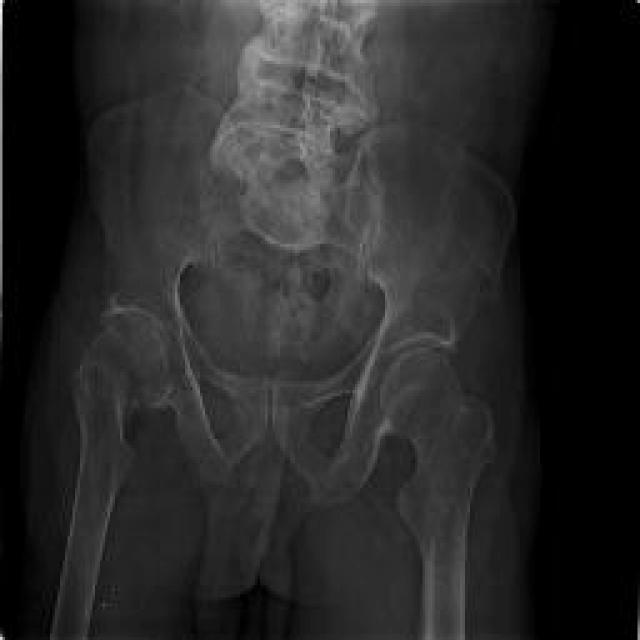normal: (274, 121, 512, 637), (53, 82, 266, 639)
